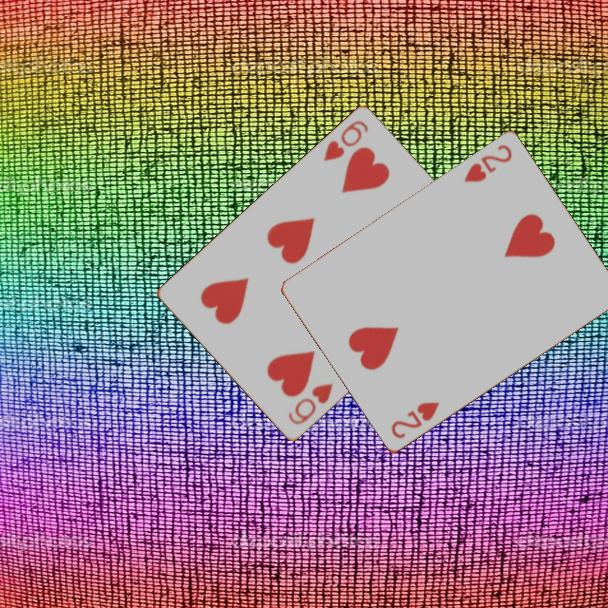h02: (460, 141, 515, 186), (387, 399, 442, 442)
h06: (285, 380, 336, 428), (320, 117, 371, 165)
